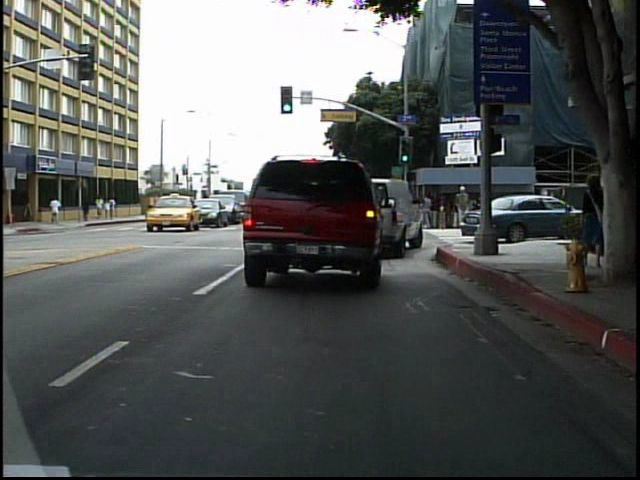person: (455, 182, 473, 227), (50, 195, 64, 227)
